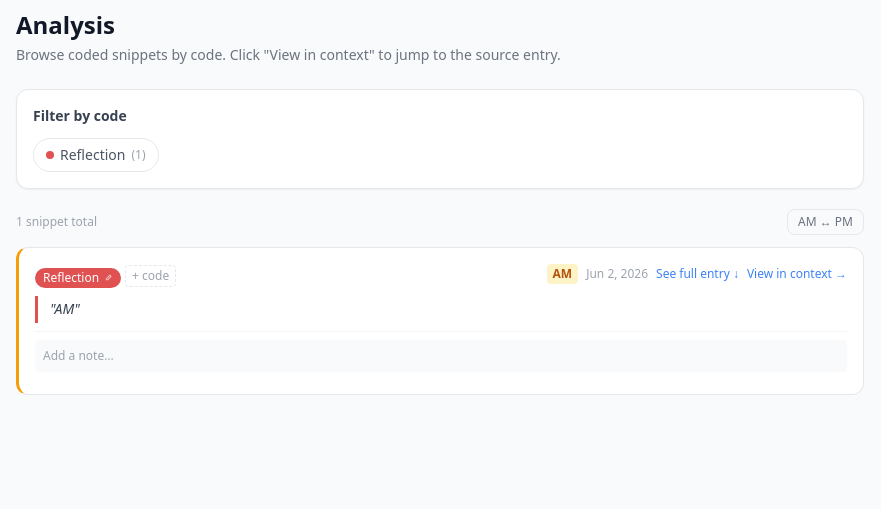
AnalysisView – AM ↔ PM compare mode › shows a placeholder for a day that has no PM snippets
The width and height of the screenshot is (881, 509).
Step 1. Click the button "AM ↔ PM" → (826, 222), box [787,209,864,235]
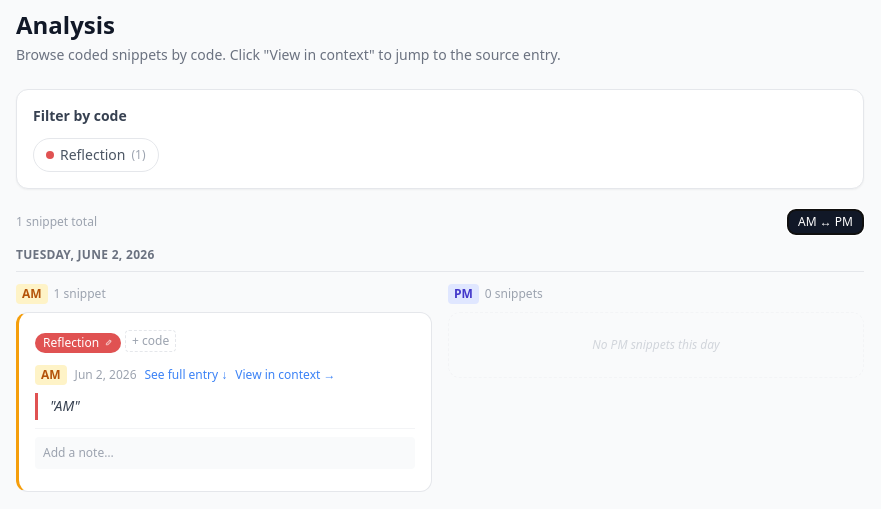
Expected: the text "No PM snippets this day" is shown, [448,312,864,378]
